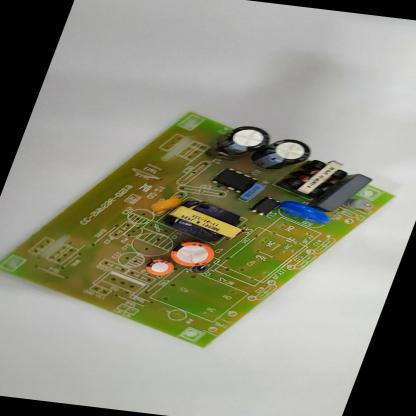Cap1: (164, 238, 221, 268)
Cap2: (138, 256, 178, 279)
Cap3: (247, 134, 320, 175)
Cap4: (208, 120, 278, 163)
MOSFET: (203, 166, 263, 196)
Mov: (269, 199, 342, 229)
Resistor: (342, 196, 377, 212)
Transformer: (152, 196, 256, 245), (267, 153, 357, 204)
